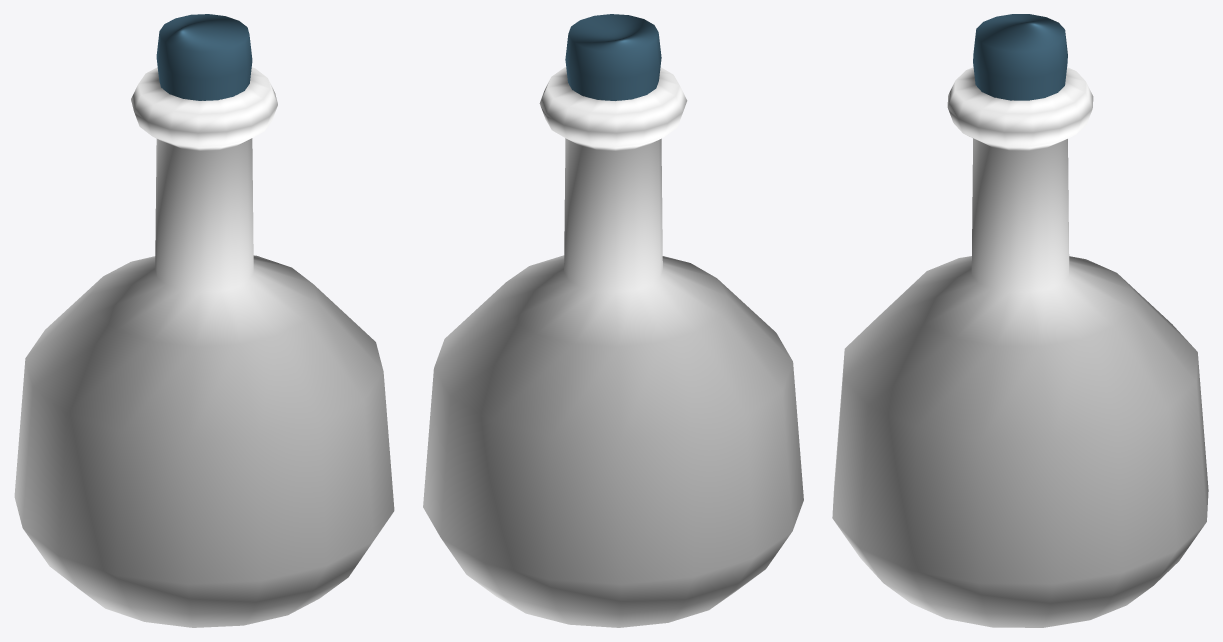
File: Potion.fbx
3 views of the same model, side by side, from view 1: azimuth 30°, elevation 25°; view 2: azimuth 150°, elevation 25°; view 3: azimuth 270°, elevation 25° (orthographic).
Parts seen in each view (by area): view 1: polySurface35, polySurface36; view 2: polySurface35, polySurface36; view 3: polySurface35, polySurface36.
Part boxes in pixels (x1,y1,x2,y2): polySurface35: [14, 67, 394, 627]; polySurface36: [156, 14, 252, 100]; polySurface35: [423, 67, 803, 627]; polySurface36: [565, 14, 661, 100]; polySurface35: [832, 67, 1208, 627]; polySurface36: [973, 14, 1067, 100].
Bounding box in the file's own units: 2.02 × 3.21 × 2.02.
1 material, 1 textured.
